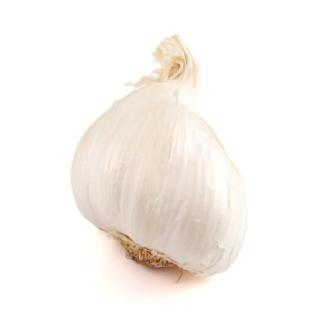Bawang Putih: (71, 81, 249, 280)
